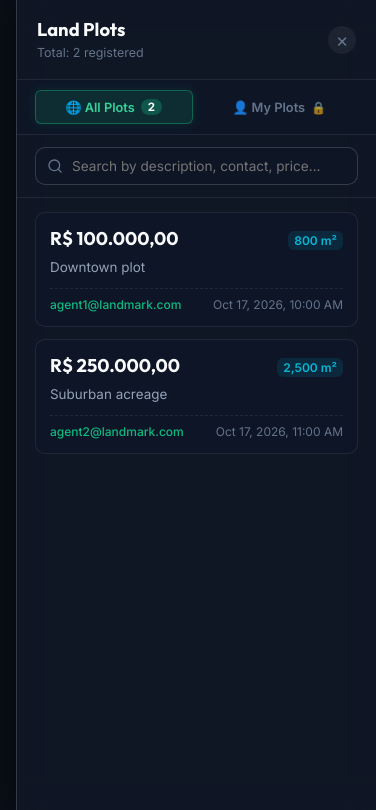
Test: PlotListPanel Component › filters plots based on search term
In the field with placeholder "Search by description, contact, price...": x=196, y=166 [35,147,358,185], type "Downtown"
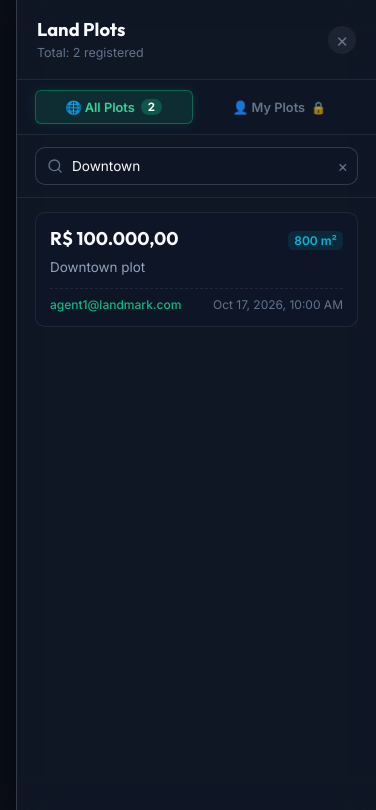
Expected: the text "Downtown plot" is shown, [50,259,145,275]
Now the text "Suburban acreage" is gone
